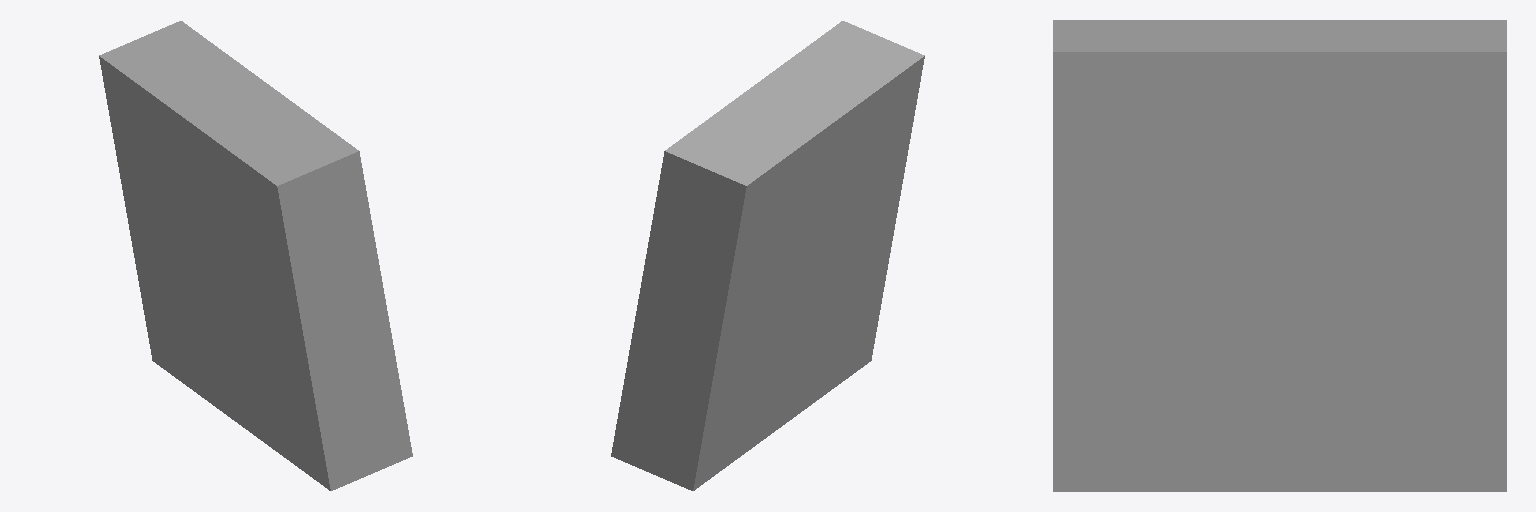
URDF robot description (niryo_ned2):
<?xml version="1.0" ?>
<!-- =================================================================================== -->
<!-- |    This document was autogenerated by xacro from niryo_ned2_gripper1_n_camera.urdf.xacro | -->
<!-- |    EDITING THIS FILE BY HAND IS NOT RECOMMENDED                                 | -->
<!-- =================================================================================== -->
<robot name="niryo_ned2">
  <!-- Enable Gazebo control-->
  <gazebo>
    <plugin filename="libgazebo_ros_control.so" name="gazebo_ros_control">
      <robotSimType>gazebo_ros_control/DefaultRobotHWSim</robotSimType>
    </plugin>
  </gazebo>
  <!-- Properties -->
  <!-- Links -->
  <link name="world"/>
  <link name="base_link">
    <inertial>
      <origin rpy="0 0 0" xyz="-0.008924 0.0001357 0.052392"/>
      <mass value="0.71142"/>
      <inertia ixx="0.0017" ixy="0.0" ixz="0.0" iyy="0.0017" iyz="0.0" izz="0.0032"/>
    </inertial>
    <visual>
      <origin rpy="0 0 0" xyz="0 0 0"/>
      <geometry>
        <mesh filename="package://niryo_robot_description/urdf/ned2/base_link.dae"/>
      </geometry>
    </visual>
    <collision>
      <origin rpy="-1.570796326795 0 0" xyz="0 0 0"/>
      <geometry>
        <mesh filename="package://niryo_robot_description/urdf/ned2/base_link.stl"/>
      </geometry>
    </collision>
  </link>gri
  <link name="led_ring_link">
    <!--
        <visual>
            <origin xyz="0 0 0"
                    rpy="0 0 0"/>
            <geometry>
                <cylinder length="0.0019" radius="0.0775"/>
            </geometry>
            <material
                    name="">
                <color
                        rgba="1 1 1 0.25"/>
            </material>
        </visual> -->
  </link>
  <link name="shoulder_link">
    <inertial>
      <origin rpy="0 0 0" xyz="-0.031951 0.0080419 0.030675"/>
      <mass value="0.35056"/>
      <inertia ixx="0.00023875" ixy="2.3853E-08" ixz="2.0596E-06" iyy="0.00032638" iyz="-8.9319E-07" izz="0.00030089"/>
    </inertial>
    <visual>
      <origin rpy="0 0 0" xyz="0 0 0"/>
      <geometry>
        <mesh filename="package://niryo_robot_description/urdf/ned2/shoulder_link.dae"/>
      </geometry>
    </visual>
    <collision>
      <origin rpy="0 0 0" xyz="0 0 0"/>
      <geometry>
        <mesh filename="package://niryo_robot_description/urdf/ned2/shoulder_link.stl"/>
      </geometry>
    </collision>
  </link>
  <link name="arm_link">
    <inertial>
      <origin rpy="0 3.14159265359 0" xyz="-0.00096976 0.086432 0.0038832"/>
      <mass value="1.0838"/>
      <inertia ixx="0.008194" ixy="0.00015602" ixz="-3.434E-06" iyy="0.0011945" iyz="-0.00031298" izz="0.007915"/>
    </inertial>
    <visual>
      <origin rpy="0 3.14159265359 0" xyz="0 0 0"/>
      <geometry>
        <mesh filename="package://niryo_robot_description/urdf/ned2/arm_link.dae"/>
      </geometry>
    </visual>
    <collision>
      <origin rpy="0 3.14159265359 0" xyz="0 0 0"/>
      <geometry>
        <mesh filename="package://niryo_robot_description/urdf/ned2/arm_link.stl"/>
      </geometry>
    </collision>
  </link>
  <link name="elbow_link">
    <inertial>
      <origin rpy="0 3.14159265359 0" xyz="-0.019703 0.037336 -1.7431E-09"/>
      <mass value="0.22126"/>
      <inertia ixx="0.00011754" ixy="-1.2314E-05" ixz="-6.2064E-11" iyy="0.00020851" iyz="9.2393E-11" izz="0.00022753"/>
    </inertial>
    <visual>
      <origin rpy="0 3.14159265359 0" xyz="0 0 0"/>
      <geometry>
        <mesh filename="package://niryo_robot_description/urdf/ned2/elbow_link.dae"/>
      </geometry>
    </visual>
    <collision>
      <origin rpy="0 3.14159265359 0" xyz="0 0 0"/>
      <geometry>
        <mesh filename="package://niryo_robot_description/urdf/ned2/elbow_link.stl"/>
      </geometry>
    </collision>
  </link>
  <link name="forearm_link">
    <inertial>
      <origin rpy="0 0 0" xyz="-0.0049532 7.8351E-06 0.08106"/>
      <mass value="0.35686"/>
      <inertia ixx="0.0013664" ixy="-9.6367E-08" ixz="0.00013594" iyy="0.0014781" iyz="-1.4596E-07" izz="0.00023715"/>
    </inertial>
    <visual>
      <origin rpy="0 0 0" xyz="0 0 0"/>
      <geometry>
        <mesh filename="package://niryo_robot_description/urdf/ned2/forearm_link.dae"/>
      </geometry>
    </visual>
    <collision>
      <origin rpy="0 0 0" xyz="0 0 0"/>
      <geometry>
        <mesh filename="package://niryo_robot_description/urdf/ned2/forearm_link.stl"/>
      </geometry>
    </collision>
  </link>
  <!-- add collision for the motor of joint 5
    <link name="joint5_motor">
        <inertial>
            <origin xyz="0 0 0.015" rpy="0 0 0"/>
            <mass value="0.203543862275952"/>
            <inertia ixx="0.0015" ixy="0.0" ixz="0.0" iyy="0.0015" iyz="0.0" izz="0.0015"/>
        </inertial>
        <collision>
            <origin xyz="0 0 0.015" rpy="0 0 0"/>
            <geometry>
                <box size="0.047 0.0285 0.03"/>
            </geometry>
        </collision>
    </link> -->
  <link name="wrist_link">
    <inertial>
      <origin rpy="0 0 0" xyz="-0.019666 0.037312 0.0"/>
      <mass value="0.22126"/>
      <inertia ixx="0.0015" ixy="0.0" ixz="0.0" iyy="0.0015" iyz="0.0" izz="0.0015"/>
    </inertial>
    <visual>
      <origin rpy="0 0 0" xyz="0 0 0"/>
      <geometry>
        <mesh filename="package://niryo_robot_description/urdf/ned2/wrist_link.dae"/>
      </geometry>
    </visual>
    <collision>
      <origin rpy="0 0 0" xyz="0 0 0"/>
      <geometry>
        <mesh filename="package://niryo_robot_description/urdf/ned2/wrist_link.stl"/>
      </geometry>
    </collision>
  </link>
  <link name="hand_link">
    <inertial>
      <origin rpy="0 0 0" xyz="0 0 0.009"/>
      <mass value="0.0070027"/>
      <inertia ixx="0.0015" ixy="0.0" ixz="0.0" iyy="0.0015" iyz="0.0" izz="0.0015"/>
    </inertial>
    <visual>
      <origin rpy="0 0 0" xyz="0 0 0"/>
      <geometry>
        <mesh filename="package://niryo_robot_description/urdf/ned2/hand_link.dae"/>
      </geometry>
    </visual>
    <collision>
      <origin rpy="0 0 0" xyz="0 0 0"/>
      <geometry>
        <mesh filename="package://niryo_robot_description/urdf/ned2/hand_link.stl"/>
      </geometry>
    </collision>
  </link>
  <link name="tool_link">
    </link>
  <!-- Joints -->
  <joint name="joint_world" type="fixed">
    <parent link="world"/>
    <child link="base_link"/>
    <origin rpy="0 0 0" xyz="0 0 0"/>
  </joint>
  <joint name="joint_1" type="revolute">
    <origin rpy="0 0 -1.570796326795" xyz="0 0 0.1013"/>
    <parent link="base_link"/>
    <child link="shoulder_link"/>
    <axis xyz="0 0 1"/>
    <limit effort="10.0" lower="-2.999871918328051" upper="2.999871918328051" velocity="10.0"/>
  </joint>
  <joint name="joint_2" type="revolute">
    <origin rpy="1.570796326795 0 1.570796326795" xyz="0 0 0.065"/>
    <parent link="shoulder_link"/>
    <child link="arm_link"/>
    <axis xyz="0 0 1"/>
    <limit effort="10.0" lower="-1.8325957145941667" upper="0.6101671064972578" velocity="8.0"/>
  </joint>
  <joint name="joint_3" type="revolute">
    <origin rpy="0 0 0" xyz="0.012 0.221 0"/>
    <parent link="arm_link"/>
    <child link="elbow_link"/>
    <axis xyz="0 0 1"/>
    <limit effort="7.0" lower="-1.3400637996813345" upper="1.5700981950942021" velocity="8.0"/>
  </joint>
  <joint name="joint_4" type="revolute">
    <origin rpy="0 1.570796326795 0" xyz="0.065 0.0325 0"/>
    <parent link="elbow_link"/>
    <child link="forearm_link"/>
    <axis xyz="0 0 1"/>
    <limit effort="7.0" lower="-2.090031779263347" upper="2.090031779263347" velocity="2.0"/>
  </joint>
  <joint name="joint_5" type="revolute">
    <origin rpy="3.14159265359 -1.570796326795 3.14159265359" xyz="0 0 0.17"/>
    <parent link="forearm_link"/>
    <child link="wrist_link"/>
    <axis xyz="0 0 1"/>
    <limit effort="6.0" lower="-1.9200367101190883" upper="1.9228292369222795" velocity="2.0"/>
  </joint>
  <joint name="joint_6" type="revolute">
    <origin rpy="0 1.570796326795 0" xyz="0.0197 0.00925 0"/>
    <parent link="wrist_link"/>
    <child link="hand_link"/>
    <axis xyz="0 0 1"/>
    <limit effort="5.0" lower="-2.530029283691147" upper="2.530029283691147" velocity="2.0"/>
  </joint>
  <joint name="hand_tool_joint" type="fixed">
    <parent link="hand_link"/>
    <child link="tool_link"/>
    <origin rpy="-1.570796326795 -1.570796326795 0" xyz="0 0 0.0285"/>
  </joint>
  <!--
    <joint name="joint_test" type="fixed">
        <origin xyz="-0.03 0 0.158" rpy="0 -${PI/2} 0"/>
        <parent link="forearm_link"/>
        <child link="joint5_motor"/>
    </joint> -->
  <joint name="joint_led_ring" type="fixed">
    <parent link="world"/>
    <child link="led_ring_link"/>
    <origin rpy="0 0 0" xyz="0 0 0.0923"/>
  </joint>
  <transmission name="transmission_1">
    <type>transmission_interface/SimpleTransmission</type>
    <joint name="joint_1">
      <hardwareInterface>hardware_interface/PositionJointInterface</hardwareInterface>
    </joint>
    <actuator name="motor_1">
      <mechanicalReduction>1</mechanicalReduction>
    </actuator>
  </transmission>
  <transmission name="transmission_2">
    <type>transmission_interface/SimpleTransmission</type>
    <joint name="joint_2">
      <hardwareInterface>hardware_interface/PositionJointInterface</hardwareInterface>
    </joint>
    <actuator name="motor_2">
      <mechanicalReduction>1</mechanicalReduction>
    </actuator>
  </transmission>
  <transmission name="transmission_3">
    <type>transmission_interface/SimpleTransmission</type>
    <joint name="joint_3">
      <hardwareInterface>hardware_interface/PositionJointInterface</hardwareInterface>
    </joint>
    <actuator name="motor_3">
      <mechanicalReduction>1</mechanicalReduction>
    </actuator>
  </transmission>
  <transmission name="transmission_4">
    <type>transmission_interface/SimpleTransmission</type>
    <joint name="joint_4">
      <hardwareInterface>hardware_interface/PositionJointInterface</hardwareInterface>
    </joint>
    <actuator name="motor_4">
      <mechanicalReduction>1</mechanicalReduction>
    </actuator>
  </transmission>
  <transmission name="transmission_5">
    <type>transmission_interface/SimpleTransmission</type>
    <joint name="joint_5">
      <hardwareInterface>hardware_interface/PositionJointInterface</hardwareInterface>
    </joint>
    <actuator name="motor_5">
      <mechanicalReduction>1</mechanicalReduction>
    </actuator>
  </transmission>
  <transmission name="transmission_6">
    <type>transmission_interface/SimpleTransmission</type>
    <joint name="joint_6">
      <hardwareInterface>hardware_interface/PositionJointInterface</hardwareInterface>
    </joint>
    <actuator name="motor_6">
      <mechanicalReduction>1</mechanicalReduction>
    </actuator>
  </transmission>
  <!-- Joint for camera -->
  <joint name="camera_joint" type="fixed">
    <axis xyz="0 0 1"/>
    <origin rpy="1.570796326795 0 0.17453292519944444" xyz="0 0.0385 0"/>
    <parent link="wrist_link"/>
    <child link="camera_link"/>
  </joint>
  <!-- Camera link -->
  <link name="camera_link">
    <visual>
      <origin rpy="0 0 0" xyz="0 0 0"/>
      <geometry>
        <box size="0.01 0.037 0.037"/>
      </geometry>
      <material name="Grey">
        <color rgba="0.7 0.7 0.7 1.0"/>
      </material>
    </visual>
    <collision>
      <origin rpy="0 0 0" xyz="0 0 0"/>
      <geometry>
        <box size="0.01 0.037 0.037"/>
      </geometry>
    </collision>
  </link>
  <!-- Add gazebo settings to make the link an camera ! -->
  <gazebo reference="camera_link">
    <material>Gazebo/DarkGrey</material>
    <sensor name="camera_gazebo" type="camera">
      <update_rate>15.0</update_rate>
      <camera name="head">
        <!--69,33 degrees-->
        <horizontal_fov>1.21</horizontal_fov>
        <!--  <aspect_ratio>1.333</aspect_ratio>-->
        <image>
          <width>640</width>
          <height>480</height>
          <format>R8G8B8</format>
        </image>
        <clip>
          <near>0.03</near>
          <far>2</far>
        </clip>
        <distortion>
          <k1>-0.4146402</k1>
          <k2>0.2407384</k2>
          <p1>-0.0</p1>
          <p2>-0.0</p2>
          <k3>-0.1040042</k3>
          <center>0.5 0.5</center>
        </distortion>
      </camera>
      <plugin filename="libgazebo_ros_camera.so" name="camera_controller">
        <alwaysOn>true</alwaysOn>
        <updateRate>0.0</updateRate>
        <cameraName>gazebo_camera</cameraName>
        <imageTopicName>image_raw</imageTopicName>
        <cameraInfoTopicName>camera_info</cameraInfoTopicName>
        <frameName>camera_link</frameName>
      </plugin>
    </sensor>
  </gazebo>
  <!-- gazebo joint state publisher for all joints. Necessary to control mors -->
  <gazebo>
    <plugin filename="libgazebo_ros_joint_state_publisher.so" name="joint_state_publisher">
      <jointName>joint_1, joint_2, joint_3, joint_4, joint_5, joint_6,
                joint_base_to_mors_1, joint_base_to_mors_2
            </jointName>
      <updateRate>50.0</updateRate>
      <alwaysOn>true</alwaysOn>
    </plugin>
  </gazebo>
  <!-- Joint from tool_link to base_gripper -->
  <joint name="joint_to_gripper" type="fixed">
    <parent link="tool_link"/>
    <child link="base_gripper_1"/>
    <origin rpy="0 -1.570796326795 1.570796326795" xyz="0.003 0 -0.007"/>
  </joint>
  <!-- Base Gripper -->
  <link name="base_gripper_1">
    <inertial>
      <origin rpy="0 0 0" xyz="0.0028582 0.0022204 0.023772"/>
      <mass value="0.001"/>
      <inertia ixx="1E-06" ixy="0.0" ixz="0.0" iyy="1E-06" iyz="0.0" izz="1E-06"/>
    </inertial>
    <visual>
      <origin rpy="0 0 0" xyz="0 0 0"/>
      <geometry>
        <mesh filename="package://niryo_robot_description/urdf/ned2/base_gripper_1.STL"/>
      </geometry>
    </visual>
    <collision>
      <origin rpy="0 0 0" xyz="0 0 0"/>
      <geometry>
        <mesh filename="package://niryo_robot_description/urdf/ned2/base_gripper_1.STL"/>
      </geometry>
    </collision>
  </link>
  <!-- Mors 1 -->
  <link name="mors_1">
    <inertial>
      <origin rpy="0 0 0" xyz="-0.0049739 0.0067393 -0.023929"/>
      <mass value="0.0067248"/>
      <inertia ixx="1.1778E-06" ixy="-2.1129E-08" ixz="1.0185E-07" iyy="1.3054E-06" iyz="1.7669E-07" izz="4.3534E-07"/>
    </inertial>
    <visual>
      <origin rpy="0 0 0" xyz="0 0 0"/>
      <geometry>
        <mesh filename="package://niryo_robot_description/urdf/ned2/mors_1.STL"/>
      </geometry>
      <material name="">
        <color rgba="0.49804 0.49804 0.49804 1"/>
      </material>
    </visual>
    <collision>
      <origin rpy="0 0 0" xyz="0 0 0"/>
      <geometry>
        <mesh filename="package://niryo_robot_description/urdf/ned2/mors_1.STL"/>
      </geometry>
    </collision>
  </link>
  <joint name="joint_base_to_mors_1" type="prismatic">
    <origin rpy="1.5708 0 0" xyz="0.01455 -0.0796 0.0096137"/>
    <parent link="base_gripper_1"/>
    <child link="mors_1"/>
    <axis xyz="0 1 0"/>
    <limit effort="1" lower="-0.01" upper="0.01" velocity="5"/>
  </joint>
  <!-- Mors 2 -->
  <link name="mors_2">
    <inertial>
      <origin rpy="0 0 0" xyz="-0.0049739 -0.0067393 -0.023929"/>
      <mass value="0.0067248"/>
      <inertia ixx="1.1778E-06" ixy="2.1129E-08" ixz="1.0185E-07" iyy="1.3054E-06" iyz="-1.7669E-07" izz="4.3534E-07"/>
    </inertial>
    <visual>
      <origin rpy="0 0 0" xyz="0 0 0"/>
      <geometry>
        <mesh filename="package://niryo_robot_description/urdf/ned2/mors_2.STL"/>
      </geometry>
    </visual>
    <collision>
      <origin rpy="0 0 0" xyz="0 0 0"/>
      <geometry>
        <mesh filename="package://niryo_robot_description/urdf/ned2/mors_2.STL"/>
      </geometry>
    </collision>
  </link>
  <joint name="joint_base_to_mors_2" type="prismatic">
    <origin rpy="1.5708 0 0" xyz="0.01455 -0.0796 -0.011066"/>
    <parent link="base_gripper_1"/>
    <child link="mors_2"/>
    <axis xyz="0 -1 0"/>
    <limit effort="1" lower="-0.01" upper="0.01" velocity="5"/>
  </joint>
  <transmission name="transmission_7">
    <type>transmission_interface/SimpleTransmission</type>
    <joint name="joint_base_to_mors_1">
      <hardwareInterface>hardware_interface/EffortJointInterface</hardwareInterface>
    </joint>
    <actuator name="motor_7">
      <mechanicalReduction>1</mechanicalReduction>
    </actuator>
  </transmission>
  <transmission name="transmission_8">
    <type>transmission_interface/SimpleTransmission</type>
    <joint name="joint_base_to_mors_2">
      <hardwareInterface>hardware_interface/EffortJointInterface</hardwareInterface>
    </joint>
    <actuator name="motor_8">
      <mechanicalReduction>1</mechanicalReduction>
    </actuator>
  </transmission>
  <!-- material -->
  <gazebo reference="base_gripper_1">
    <material>Gazebo/DarkGrey</material>
  </gazebo>
  <gazebo reference="mors_1">
    <material>Gazebo/DarkGrey</material>
  </gazebo>
  <gazebo reference="mors_2">
    <material>Gazebo/DarkGrey</material>
  </gazebo>
</robot>

--- Facts derived from the render (not from the file) ---
Views: 3 orthographic renders of the robot side by side, from view 1: azimuth 30°, elevation 25°; view 2: azimuth 150°, elevation 25°; view 3: azimuth 270°, elevation 25°.
Robot: niryo_ned2 — 14 links, 13 joints (6 revolute, 2 prismatic, 5 fixed); root link world; default pose: all joints at 0.
Links seen in each view (by area): view 1: camera_link; view 2: camera_link; view 3: camera_link.
Boxes of the visible links, left/top/right/bottom form: camera_link: left=99, top=21, right=412, bottom=490; camera_link: left=611, top=21, right=924, bottom=490; camera_link: left=1053, top=20, right=1506, bottom=491.
Size in the robot's own frame: 0.0163 by 0.037 by 0.0382 metres.
Meshes: 10 distinct files referenced, 0 mesh visuals loaded (none loaded); not drawn: 9 (reference not matched to a file when rendering), 1 (file found but could not be loaded).